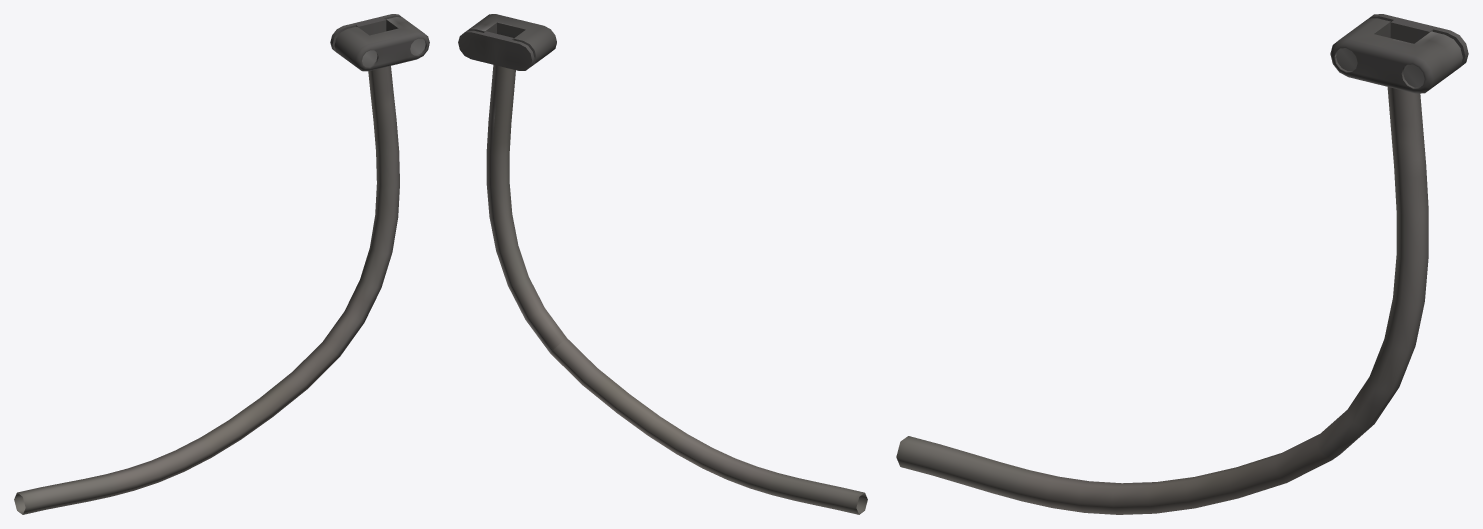
File: wall-cable-bend--1.gltf
The picture shows the model from 3 angles, left to right: view 1: azimuth 30°, elevation 25°; view 2: azimuth 150°, elevation 25°; view 3: azimuth 330°, elevation 25°; orthographic projection. The views are drawn at different scales.
Visible parts, largest first — view 1: cable_turn_long; view 2: cable_turn_long; view 3: cable_turn_long.
Boxes of the visible parts, box(x1,y1,x2,y2) form: cable_turn_long: box(14, 14, 429, 514); cable_turn_long: box(458, 14, 867, 514); cable_turn_long: box(896, 14, 1468, 514).
Bounding box in the file's own units: 0.2208 × 0.2134 × 0.0259.
1 material, 1 textured.
